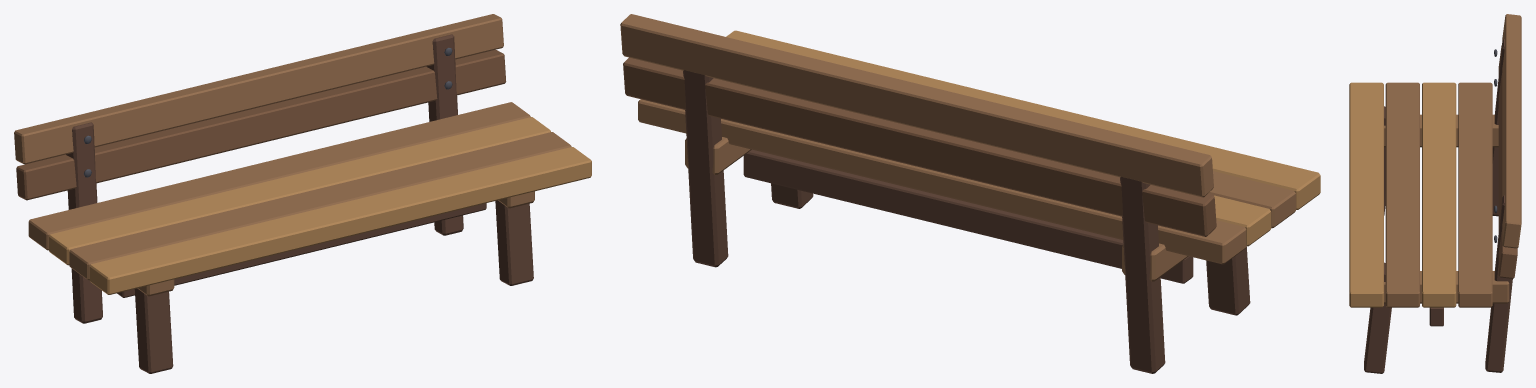
Rendered from bench.glb.
3 renders of one model, left to right at view 1: azimuth 30°, elevation 25°; view 2: azimuth 150°, elevation 25°; view 3: azimuth 270°, elevation 25°, orthographic. The views are drawn at different scales.
Visible parts, largest first — view 1: bench; view 2: bench; view 3: bench.
Boxes of the visible parts, bbox=[...] form: bench: bbox=[14, 14, 591, 373]; bench: bbox=[620, 14, 1320, 373]; bench: bbox=[1349, 14, 1521, 373].
Bounding box in the file's own units: 1.3 × 0.5 × 0.45.
